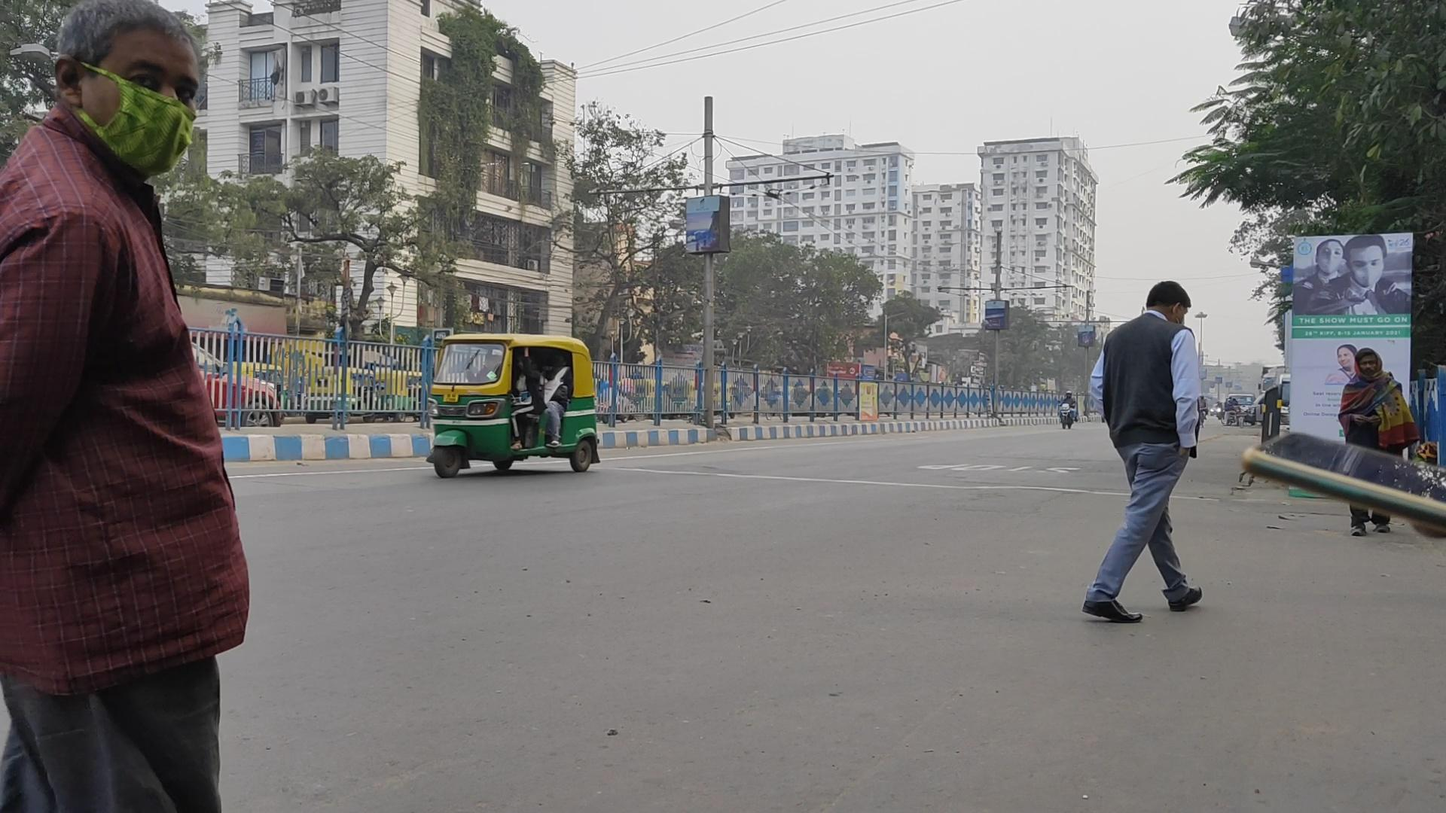Auto: (426, 333, 601, 478)
bike: (1057, 390, 1079, 430)
